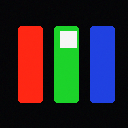1 square: (60, 31, 76, 47)
